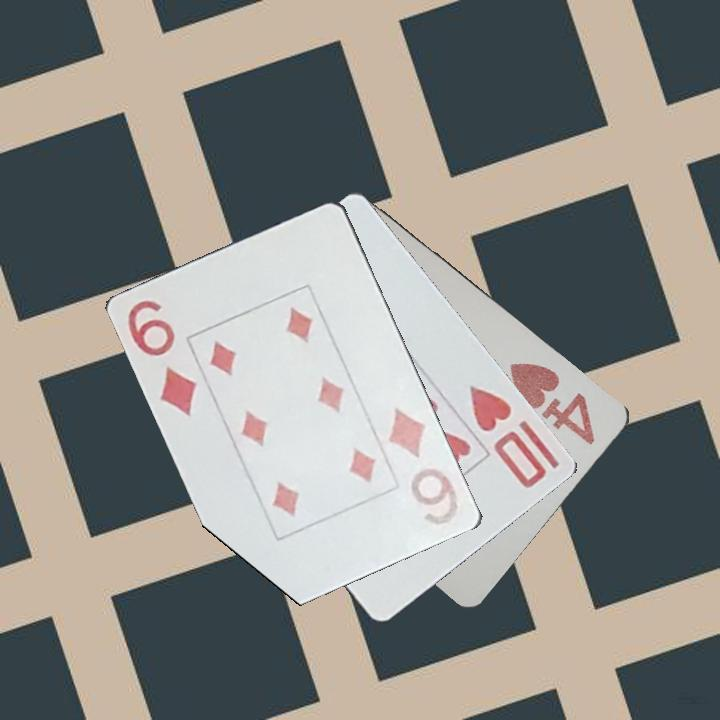4h: (506, 358, 599, 448)
6d: (385, 404, 462, 530), (122, 296, 200, 420)
Th: (466, 380, 550, 492)
